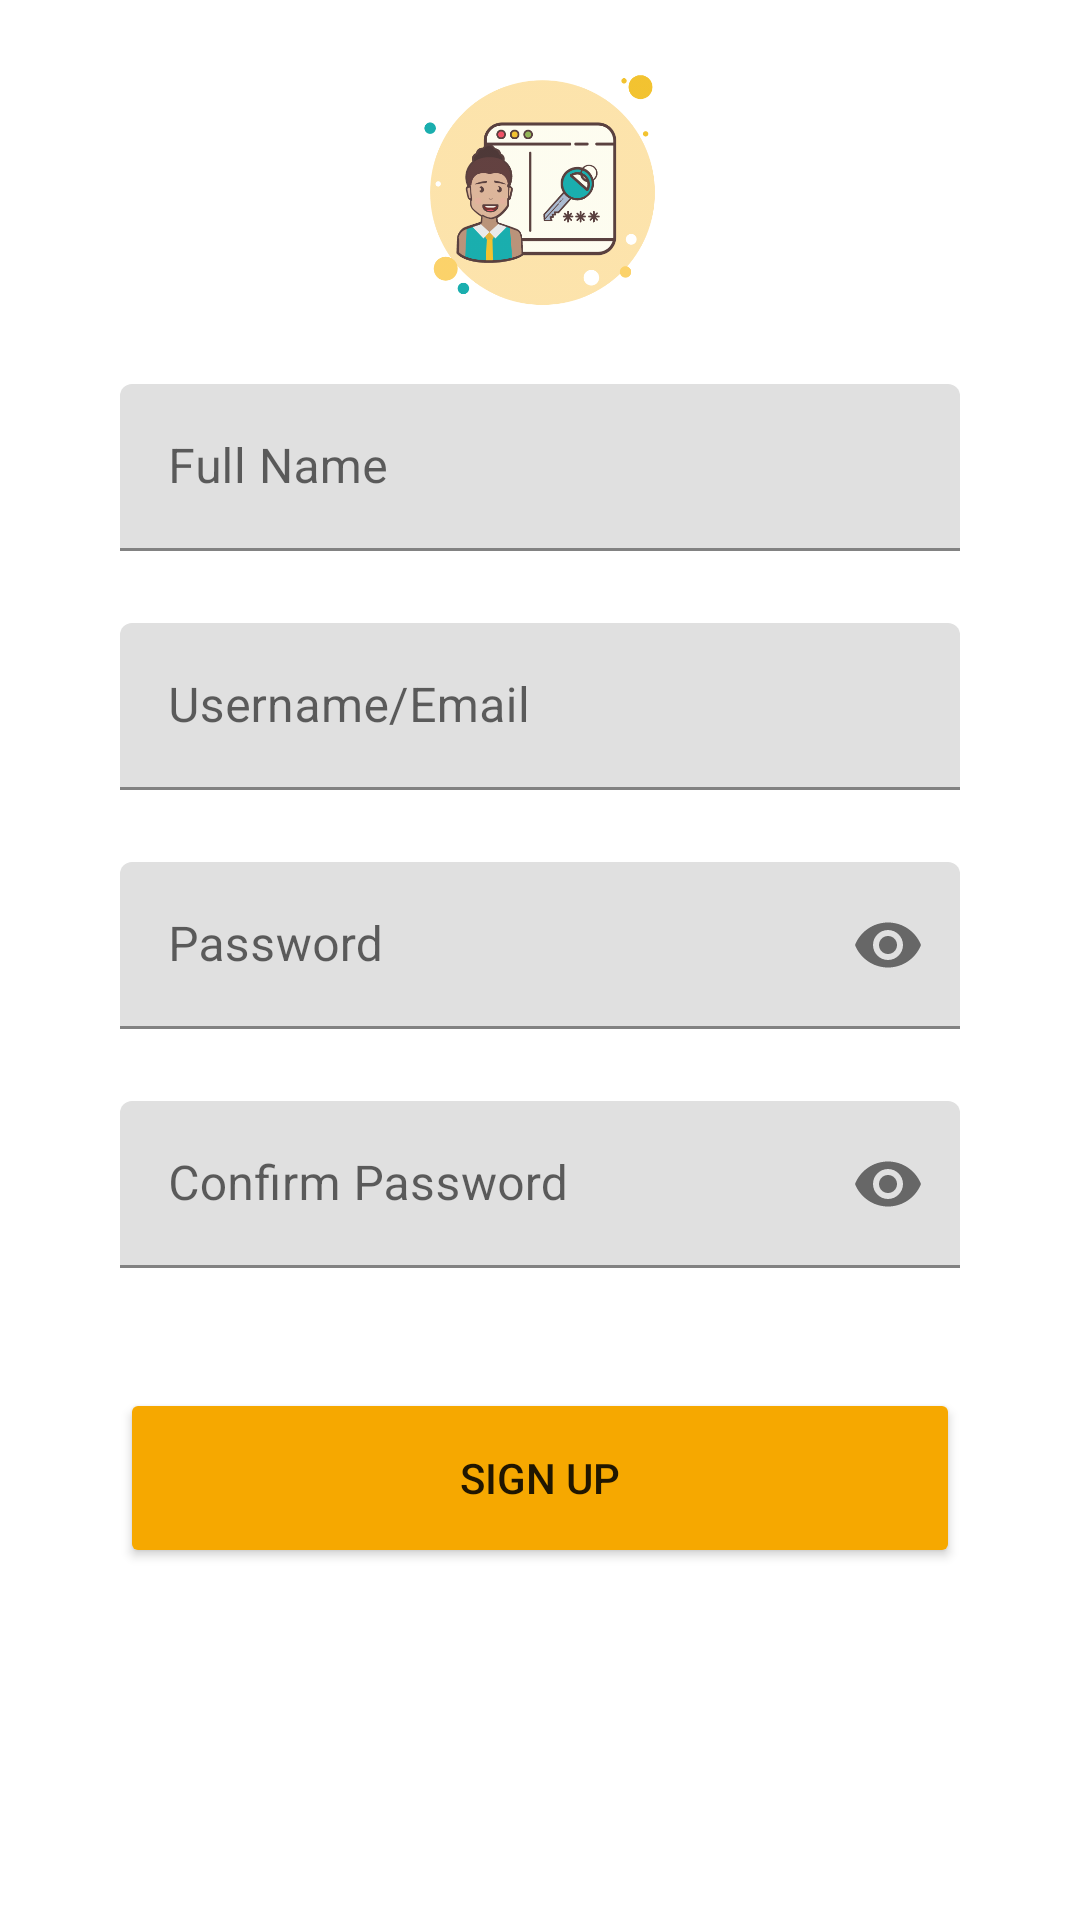

Where to tap for icons on this 1080px×1920px app screen, as (x=x, y=y):
graphic lady: (x=539, y=190)
